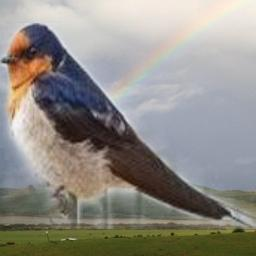Swallow: (0, 23, 256, 229)
